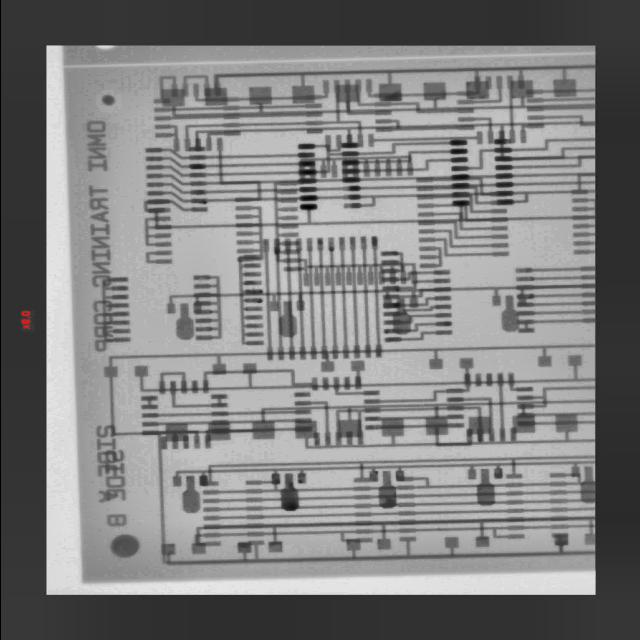L1: (102, 337, 597, 437), (133, 355, 595, 393), (212, 64, 595, 102), (161, 532, 595, 564), (250, 400, 595, 440), (165, 284, 595, 315), (202, 455, 596, 487), (293, 412, 595, 449), (193, 523, 595, 548), (202, 472, 595, 496), (201, 488, 595, 504), (202, 497, 595, 513), (202, 506, 595, 522), (194, 135, 271, 215), (202, 515, 595, 530), (183, 120, 363, 152), (351, 79, 475, 121), (278, 258, 417, 291), (139, 431, 165, 561), (497, 128, 595, 161), (192, 80, 328, 103), (298, 155, 413, 179), (414, 172, 508, 198), (272, 180, 299, 263), (416, 237, 510, 260), (416, 192, 507, 214), (415, 185, 507, 206), (416, 202, 507, 223), (367, 131, 482, 147), (417, 229, 508, 249), (417, 220, 507, 240), (343, 79, 391, 116), (417, 212, 507, 231), (233, 205, 262, 262), (153, 112, 322, 121), (153, 103, 321, 112), (374, 118, 473, 132), (455, 76, 502, 105), (457, 117, 493, 144), (568, 167, 595, 201), (143, 216, 171, 248), (526, 115, 595, 127), (204, 131, 241, 152), (174, 303, 193, 340), (277, 301, 296, 338), (392, 296, 410, 335), (154, 124, 179, 152), (153, 76, 177, 104), (181, 74, 210, 97), (500, 295, 518, 332), (506, 76, 515, 144), (418, 246, 441, 269), (111, 536, 137, 556), (518, 124, 543, 143), (207, 422, 231, 441), (164, 423, 188, 442), (526, 106, 595, 112), (526, 97, 595, 103), (143, 199, 170, 213), (332, 80, 341, 121), (145, 250, 171, 264), (525, 89, 595, 94), (324, 135, 341, 152), (102, 95, 114, 107), (572, 215, 595, 221), (572, 232, 595, 238), (572, 223, 594, 229), (573, 240, 595, 246), (573, 249, 595, 255), (571, 198, 595, 203), (571, 207, 595, 212), (194, 138, 201, 152), (345, 134, 352, 148), (484, 76, 491, 89), (306, 129, 322, 134)
L2: (161, 78, 595, 118), (203, 65, 596, 106), (190, 516, 595, 555), (144, 173, 595, 205), (160, 533, 595, 566), (147, 198, 595, 229), (187, 121, 595, 152), (171, 460, 595, 489), (446, 120, 596, 178), (145, 189, 595, 204), (143, 143, 330, 179), (362, 368, 474, 423), (334, 405, 482, 445), (143, 147, 314, 165), (144, 156, 314, 174), (201, 368, 317, 394), (513, 380, 597, 412), (329, 139, 467, 158), (364, 423, 471, 447), (237, 254, 264, 346), (341, 148, 467, 167), (445, 396, 494, 443), (341, 157, 468, 174), (191, 274, 222, 341), (100, 277, 130, 344), (293, 398, 331, 449), (141, 426, 311, 436), (493, 146, 595, 162), (493, 155, 595, 171), (169, 381, 228, 408), (140, 409, 311, 418), (141, 418, 311, 427), (272, 238, 284, 361), (294, 238, 306, 361), (348, 236, 360, 359), (359, 236, 371, 359), (370, 236, 382, 359), (382, 317, 452, 338), (261, 239, 273, 361), (337, 237, 349, 359), (145, 194, 208, 217), (380, 265, 450, 285), (283, 238, 294, 361), (316, 237, 327, 360), (326, 237, 337, 360), (305, 238, 316, 360), (516, 318, 595, 334), (381, 276, 451, 293), (469, 180, 595, 189), (382, 311, 452, 327), (382, 303, 451, 318), (383, 329, 452, 343), (382, 295, 451, 309), (382, 286, 451, 300), (332, 377, 380, 396), (278, 473, 299, 512), (377, 470, 396, 509), (475, 468, 494, 507), (514, 265, 595, 274), (109, 533, 139, 557), (363, 414, 464, 421), (181, 476, 199, 514), (158, 372, 186, 395), (515, 283, 595, 291), (496, 373, 505, 442), (579, 466, 595, 503), (379, 251, 404, 274), (515, 275, 595, 282), (516, 411, 595, 418), (516, 420, 595, 427), (516, 292, 595, 299), (507, 371, 533, 392), (516, 310, 595, 316), (516, 301, 595, 307), (341, 198, 375, 210), (139, 396, 158, 410), (187, 431, 199, 450), (356, 412, 362, 445), (203, 430, 210, 449), (508, 427, 517, 441), (474, 373, 482, 388), (171, 434, 178, 450), (159, 436, 167, 450), (292, 392, 310, 398), (485, 372, 492, 387), (102, 96, 113, 105), (321, 377, 328, 391), (343, 376, 350, 390), (345, 431, 352, 445), (190, 380, 197, 394), (354, 377, 361, 389), (182, 436, 188, 450)
